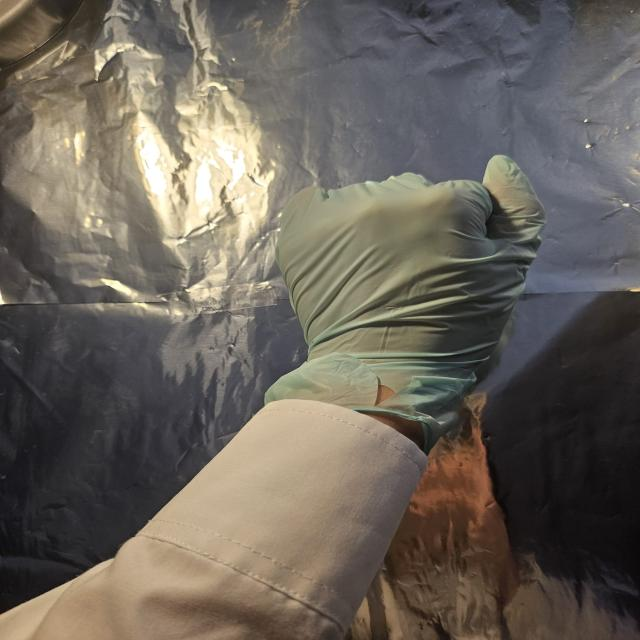gloves_damaged: (264, 152, 540, 452)
